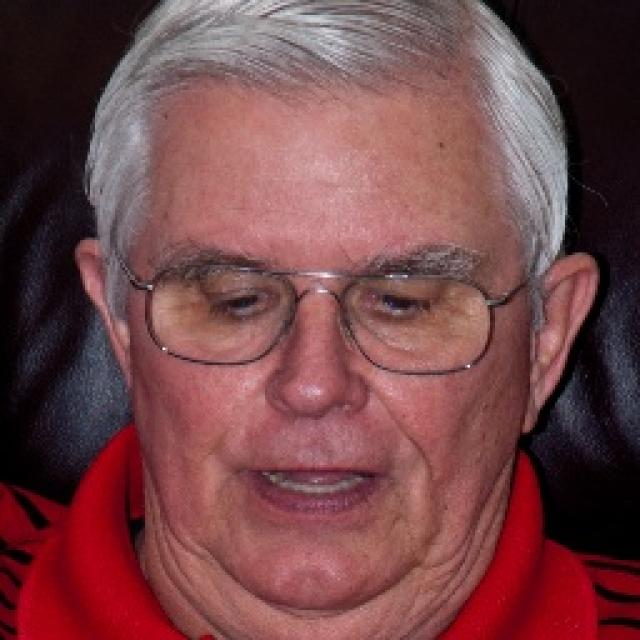earlobe: (108, 320, 140, 393), (516, 372, 549, 437)
eye: (364, 280, 441, 319), (202, 284, 279, 319)
nose: (260, 392, 366, 455)
wholeear: (516, 252, 600, 436), (74, 238, 140, 392)
